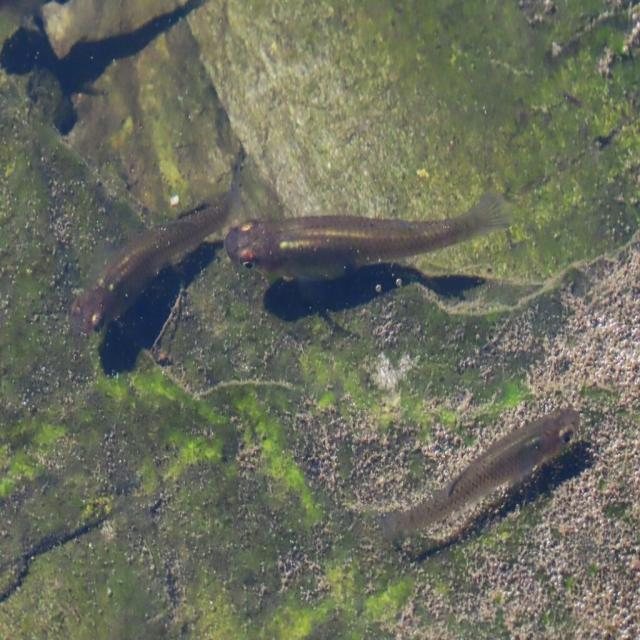Sivrisinek Baligi: (65, 152, 245, 338), (374, 401, 582, 559), (223, 188, 516, 284)
